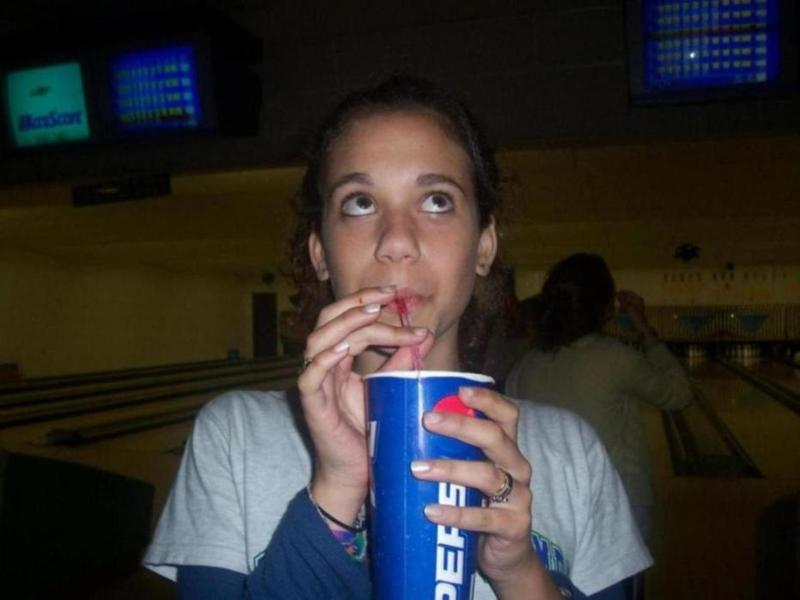person: (141, 85, 659, 600)
